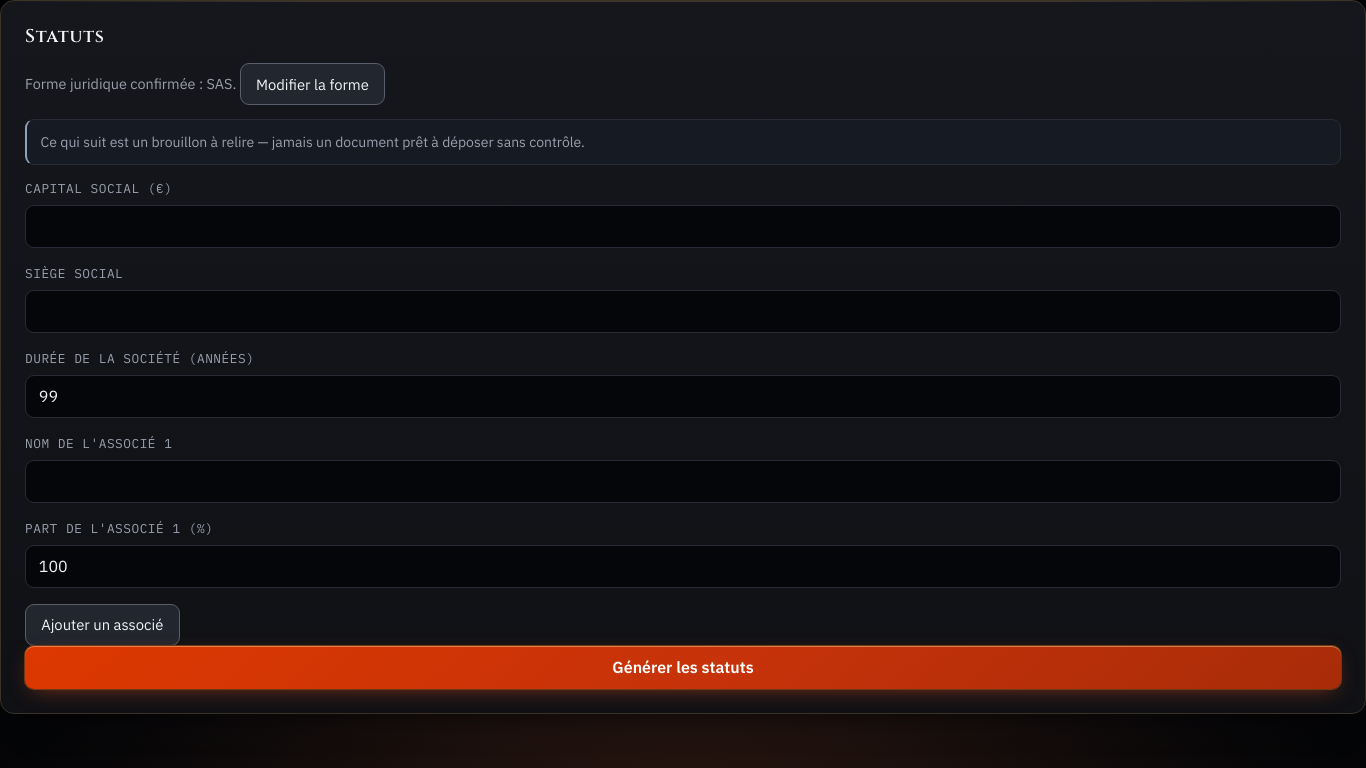
it: StatutsSection › affiche le message d'erreur renvoyé par l'API
This screenshot has width=1366, height=768.
In the field labelled "Capital social (€)": x=683, y=226 [25,205,1341,248], type "1 000,50"
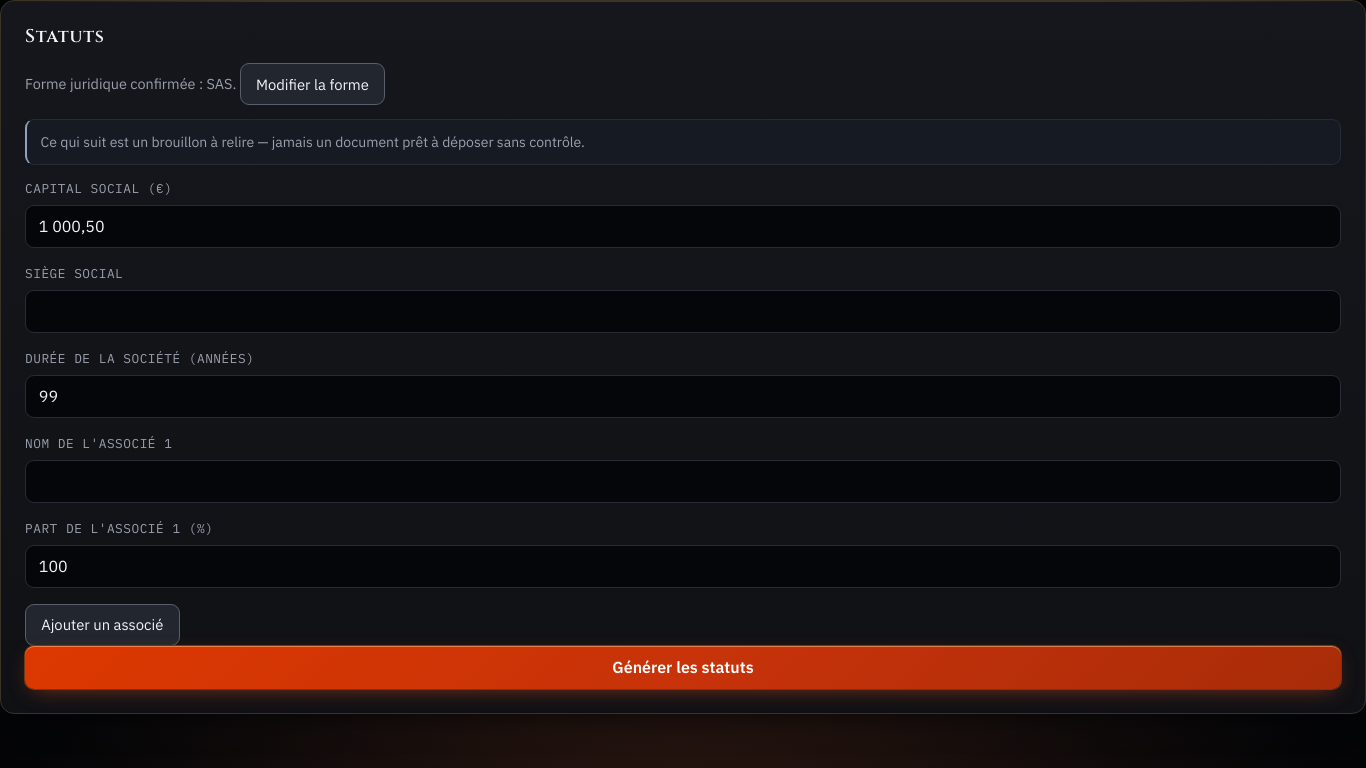
In the field labelled "Siège social": x=683, y=312 [25,290,1341,333], type "1 rue de Paris"
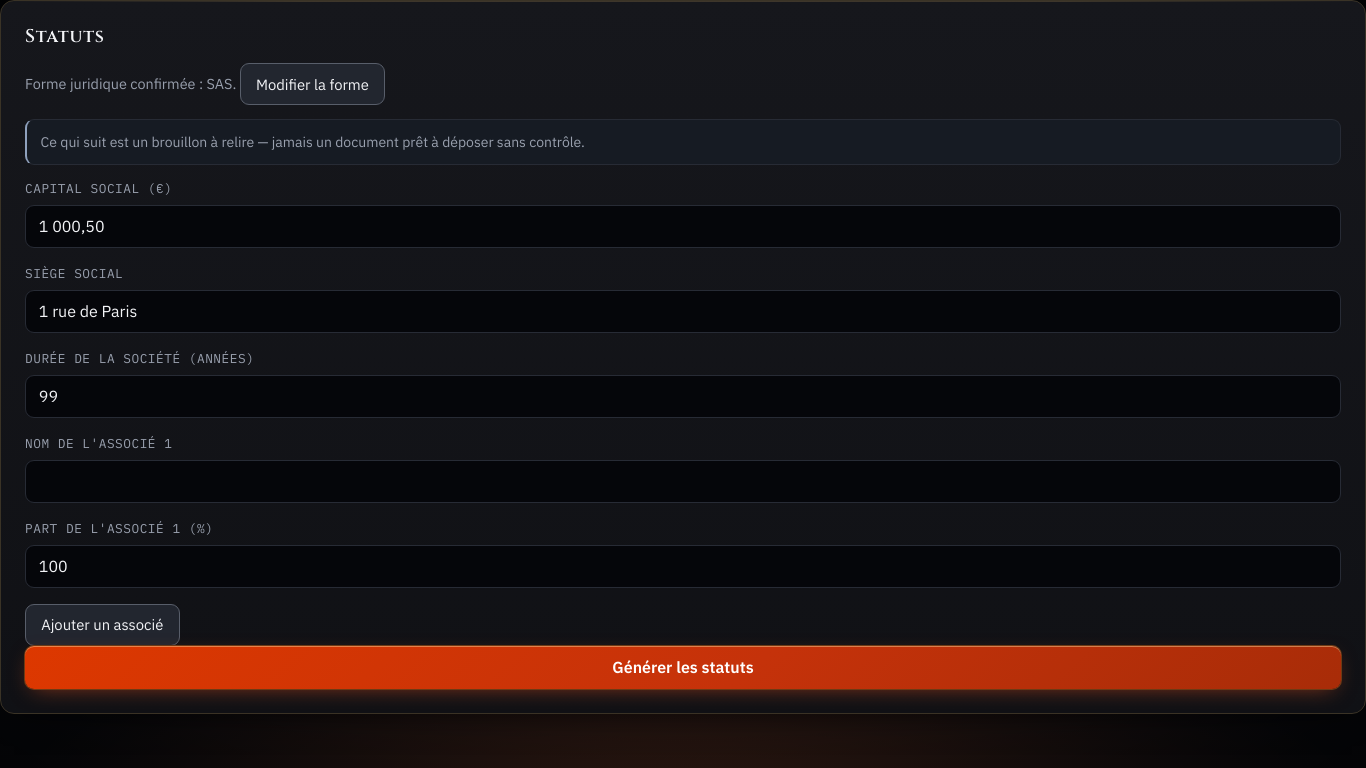
In the field labelled "Nom de l'associé 1": x=683, y=482 [25,460,1341,503], type "Alice"
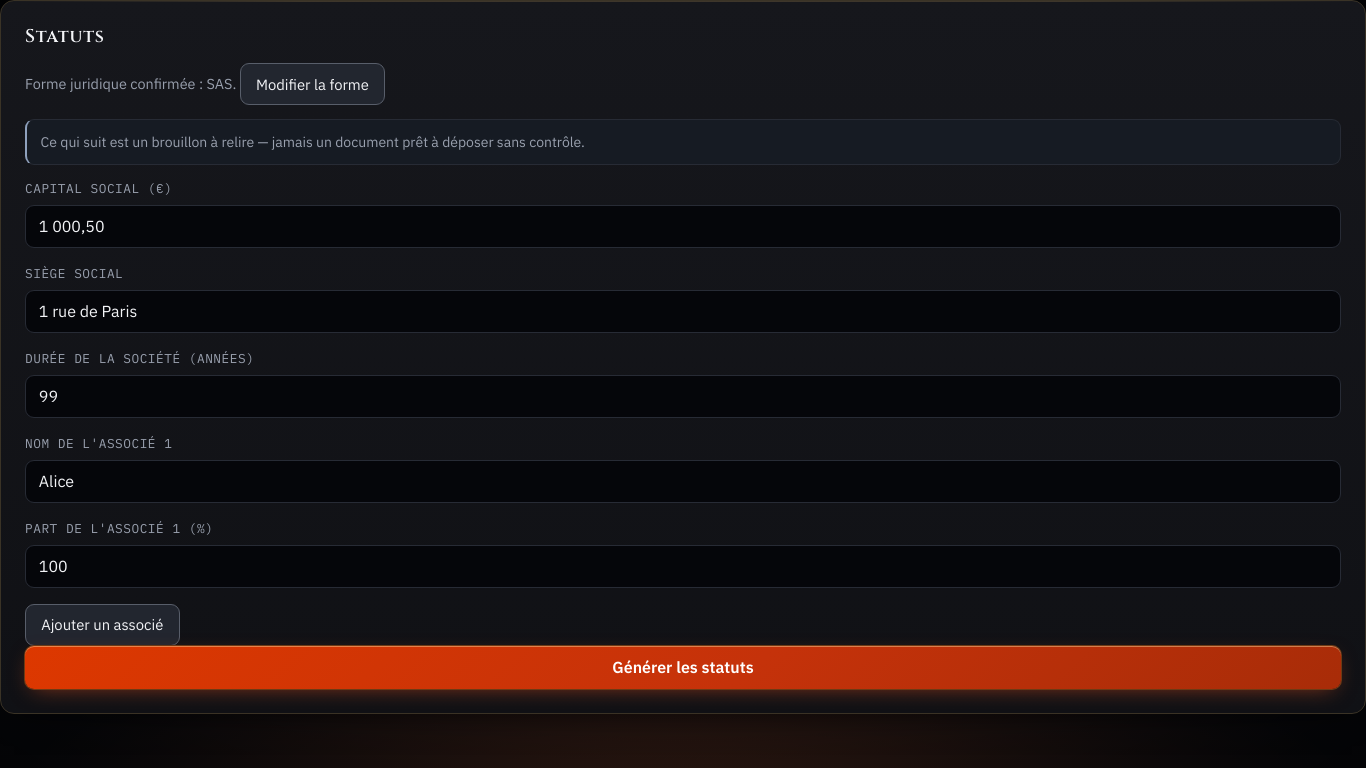
Click the button "Générer les statuts": x=683, y=667 [25,646,1341,689]
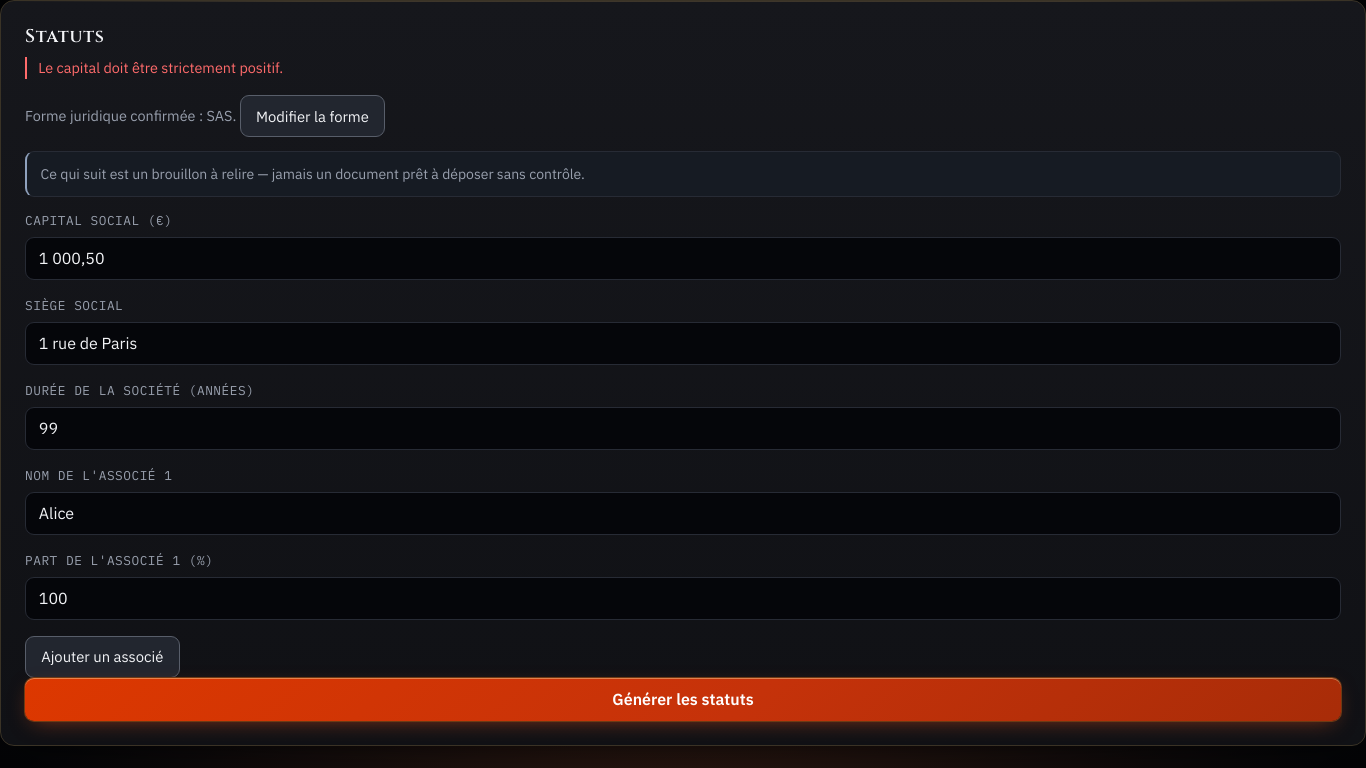
Expected: the text "Le capital doit être strictement positif." is shown, [25,57,1341,79]
